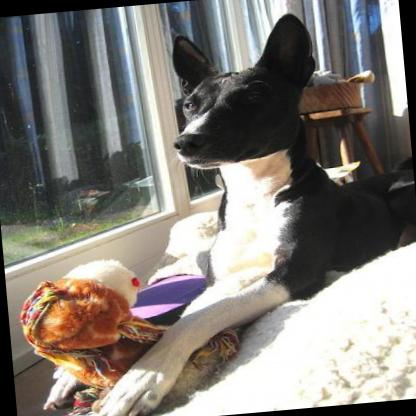basenji: (7, 1, 416, 416)
